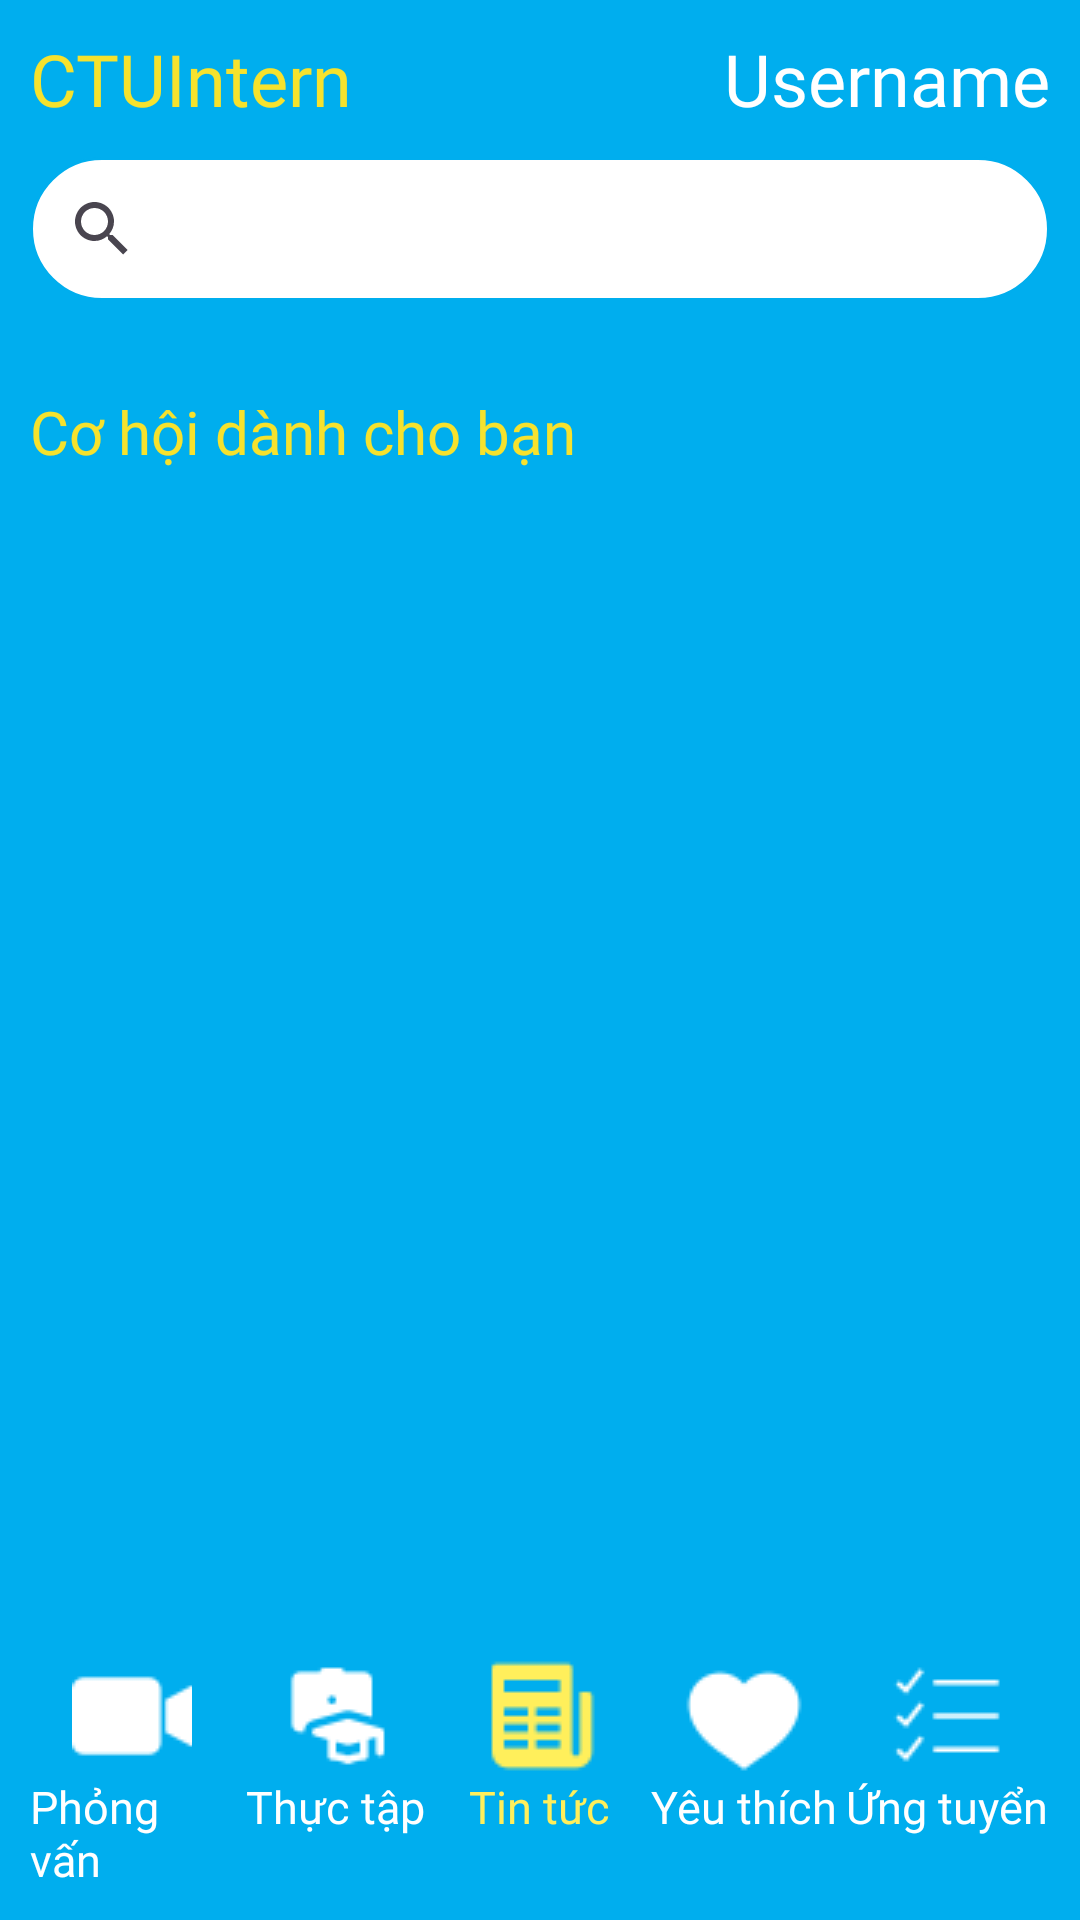

Screen size 1080x1920. Icon name, then its center in pixels as (x=x, y=y):
heart: (x=744, y=1720)
video: (x=132, y=1716)
